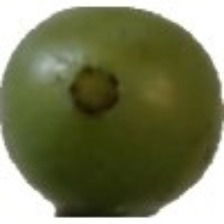grapes: (36, 0, 186, 194)
